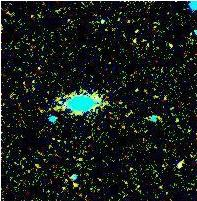star: (57, 170, 87, 200)
